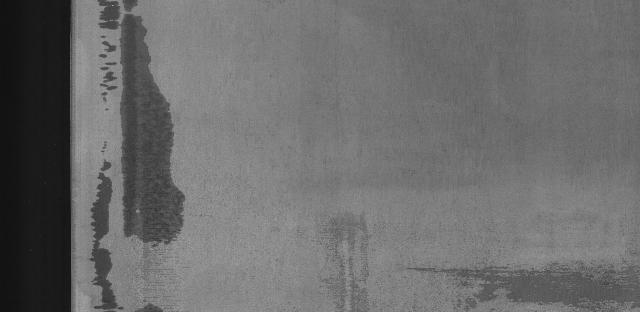oil_spot: (83, 2, 193, 312), (416, 248, 628, 312)
